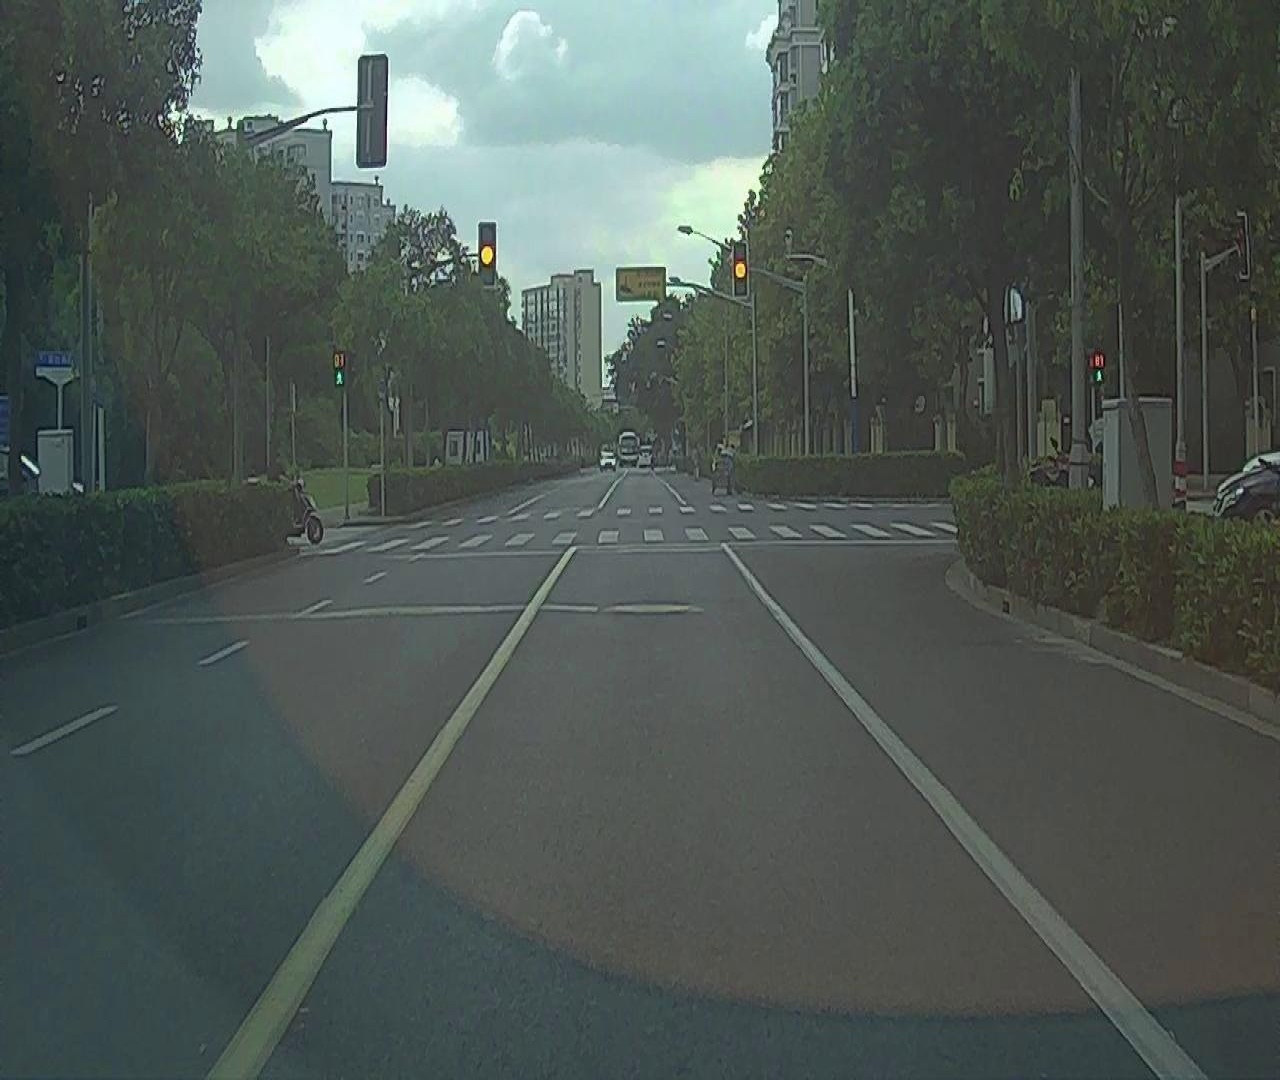yellow: (478, 220, 495, 288), (734, 241, 749, 295)
